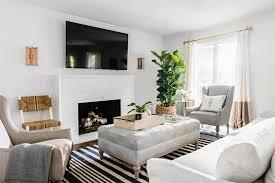TV: (63, 21, 130, 74)
chair: (0, 97, 74, 139), (183, 81, 237, 138), (14, 93, 64, 131)
light: (24, 42, 40, 68), (137, 56, 146, 74)
sofa: (146, 111, 275, 182)
table: (95, 118, 203, 176), (0, 135, 79, 183), (178, 98, 189, 114)
